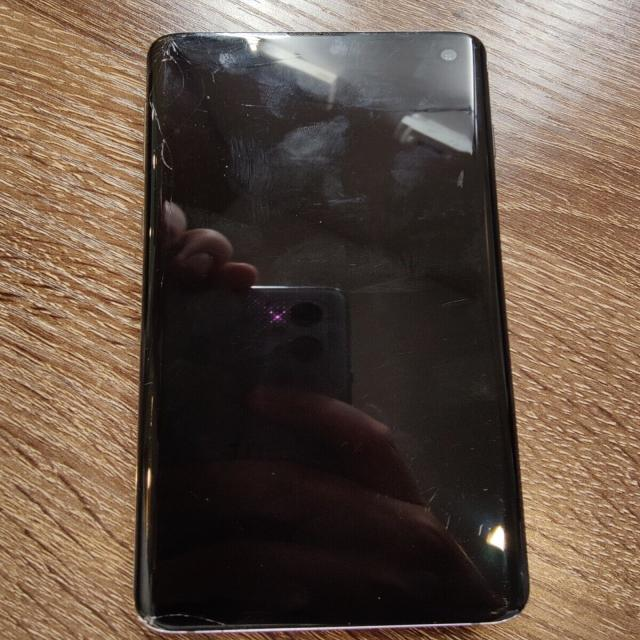Crack: (137, 31, 205, 300)
Scratches: (140, 599, 231, 633)
